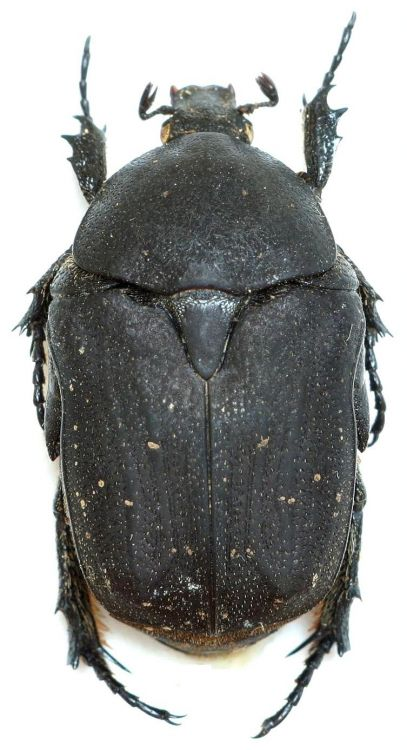Protaetia_morio_morio: (4, 8, 387, 744)
